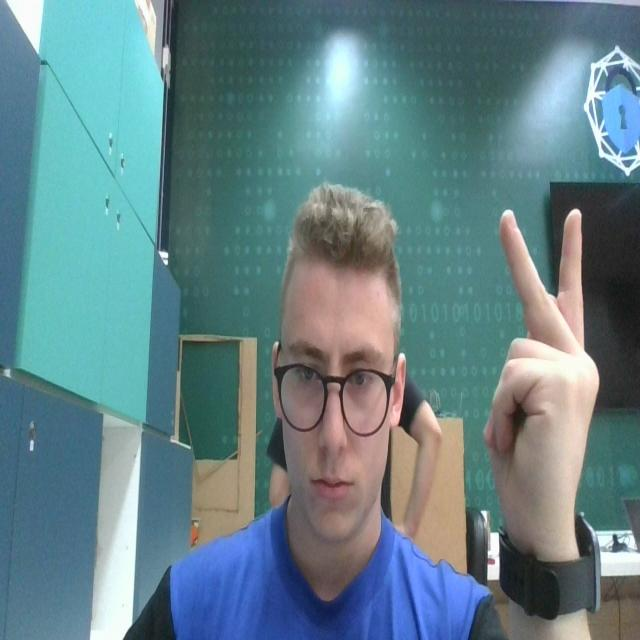K: (485, 201, 603, 540)
